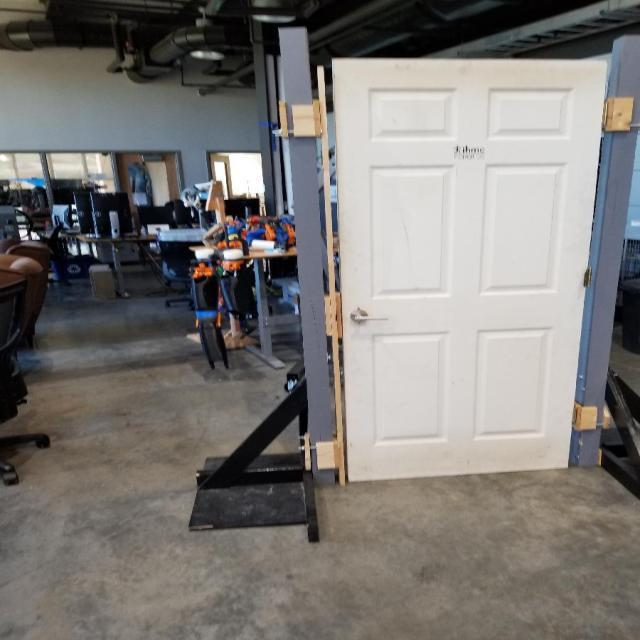door: (329, 55, 608, 488), (346, 307, 386, 325)
